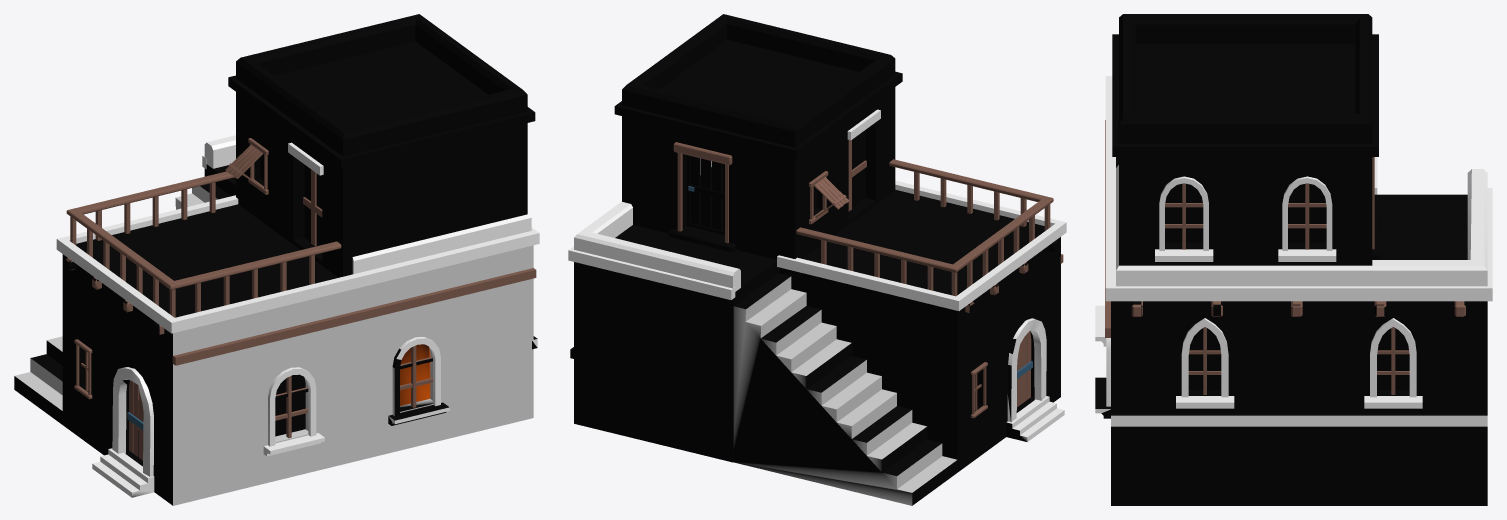
File: civilian_house_31_g.FBX
3 renders of one model, left to right at view 1: azimuth 30°, elevation 25°; view 2: azimuth 150°, elevation 25°; view 3: azimuth 270°, elevation 25°, orthographic. The views are drawn at different scales.
Visible parts, largest first — view 1: civilian_house_31_g_LOD0; view 2: civilian_house_31_g_LOD0; view 3: civilian_house_31_g_LOD0.
Part boxes in pixels (bbox=[...]): civilian_house_31_g_LOD0: bbox=[14, 14, 539, 505]; civilian_house_31_g_LOD0: bbox=[568, 14, 1066, 505]; civilian_house_31_g_LOD0: bbox=[1095, 14, 1492, 505].
Size of what is drawn, in the model's own units: 1146 by 904 by 844.
